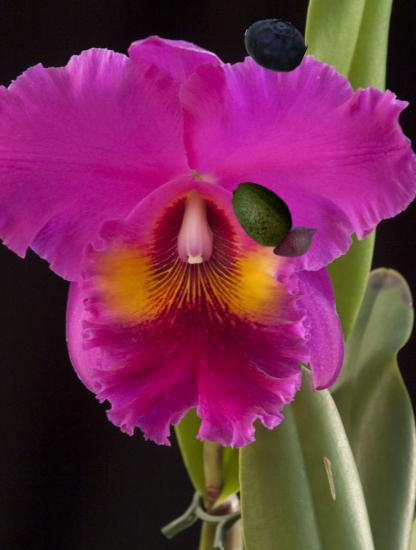Avocado: (225, 176, 301, 252)
Blueberry: (243, 13, 306, 76)
Salak: (271, 216, 324, 269)
